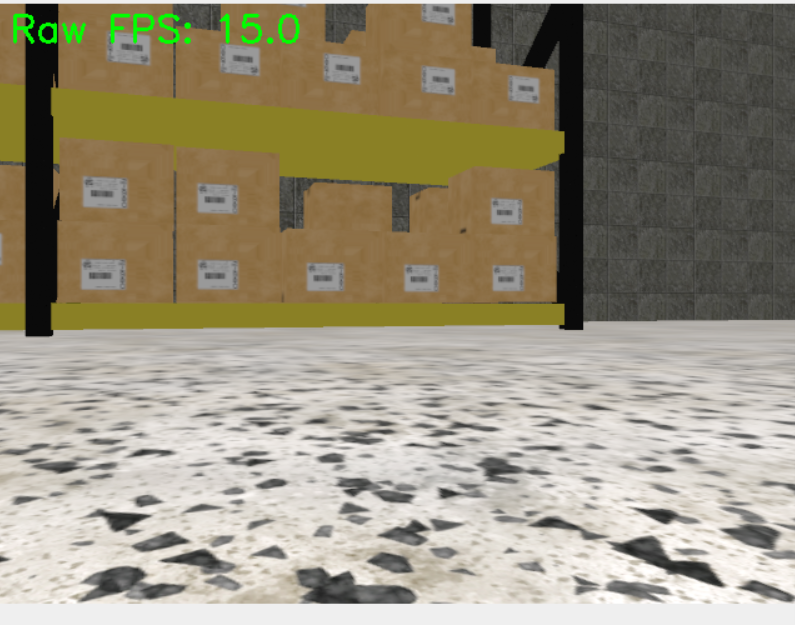barcode: (79, 258, 128, 292), (83, 175, 129, 209), (196, 183, 238, 216), (196, 259, 240, 290), (220, 45, 262, 77), (306, 262, 345, 293), (323, 54, 361, 84), (421, 65, 457, 95), (403, 263, 439, 293), (507, 75, 542, 105), (492, 264, 525, 292), (490, 198, 524, 225)
